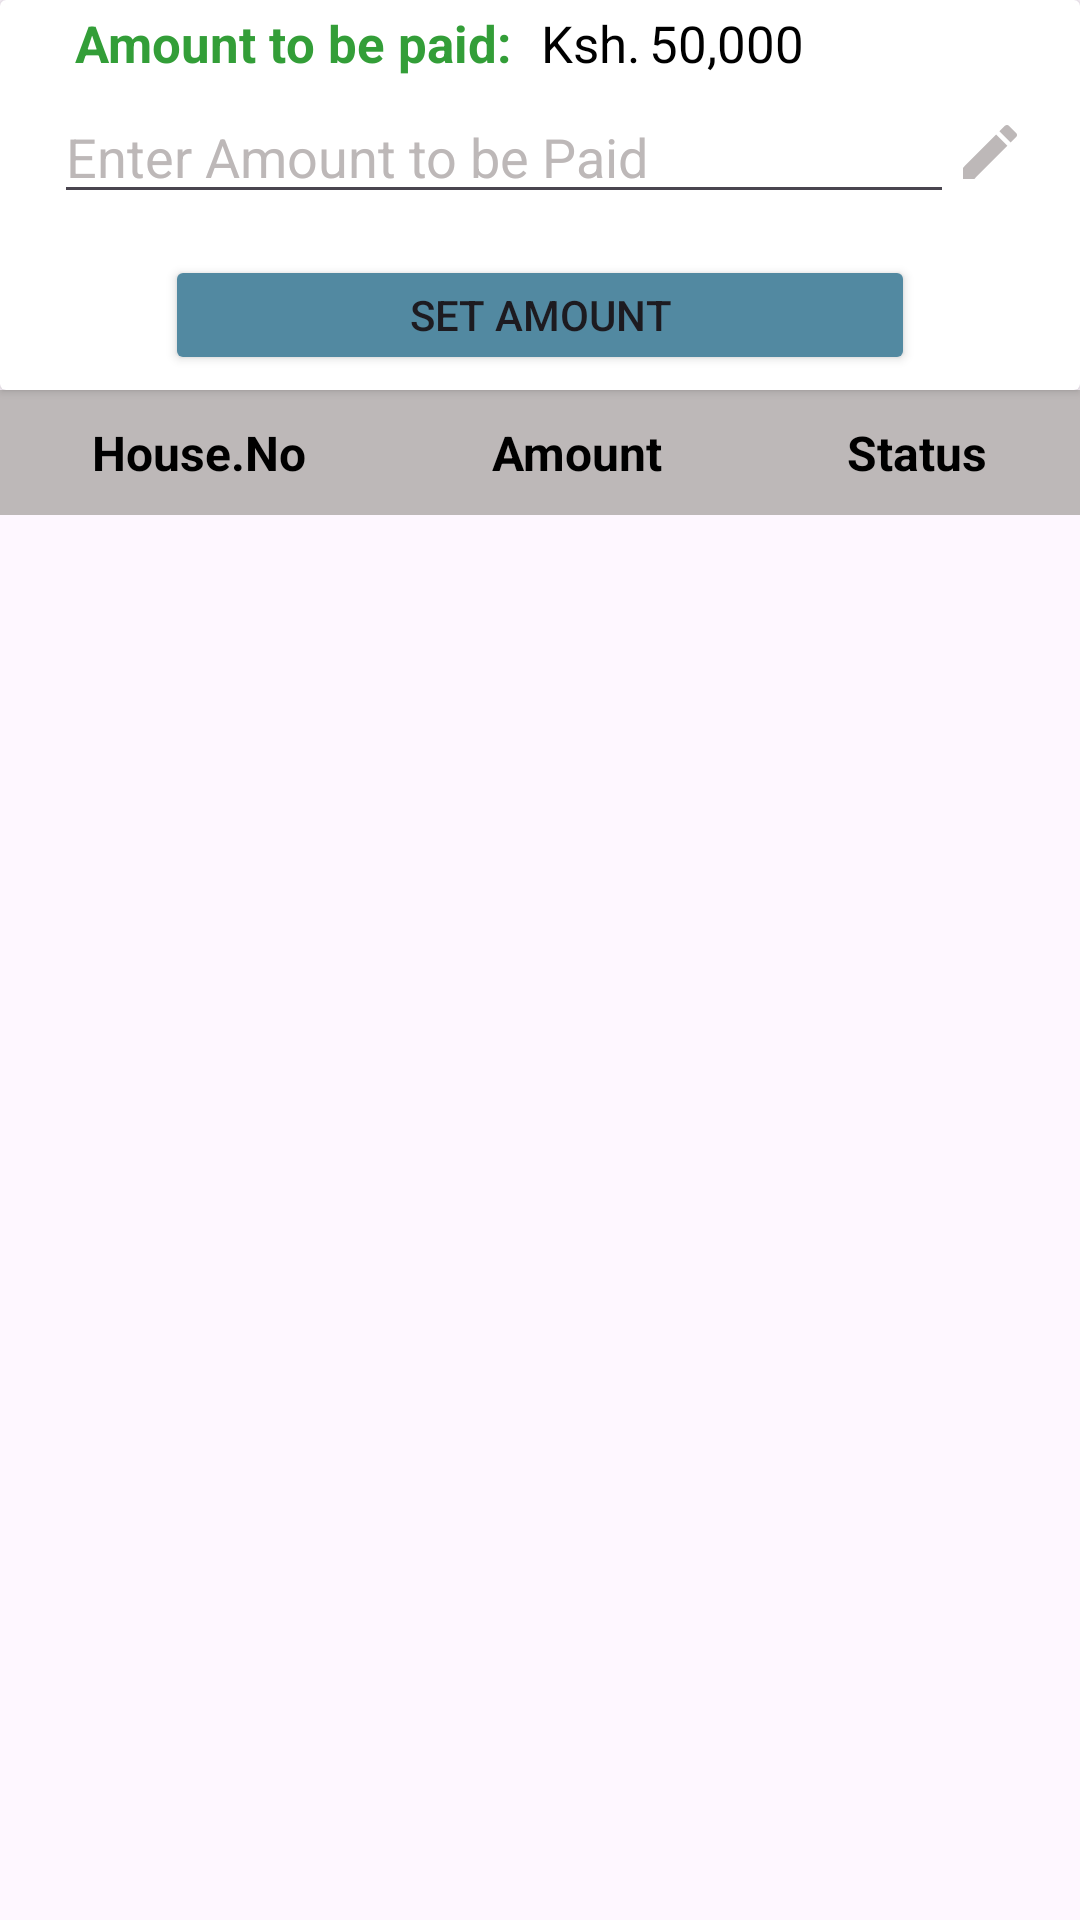

Icons on this 1080px x 1920px Android screen, each with its box as (x1, y1, x2, y2):
edit: (963, 125, 1017, 179)
